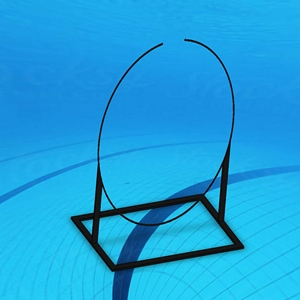circle: (70, 39, 248, 274)
